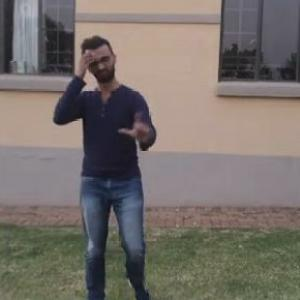land_hand: (117, 104, 155, 145)
